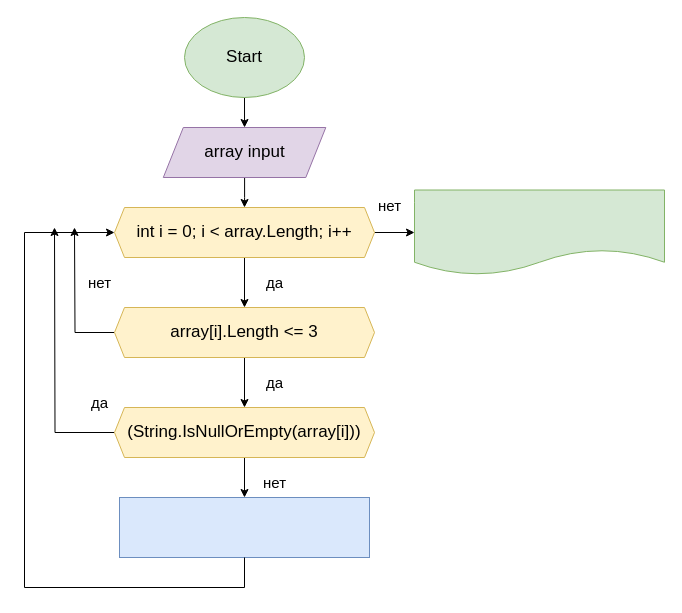
Image size: 682x613. Some labels were removed from this diagram. Each missing label, with the centre of its shape:
"Console.WriteLine(resultArray)" belongs at point 539,232.
"resultArray[j] = array[i]; j++;" belongs at point 244,527.
